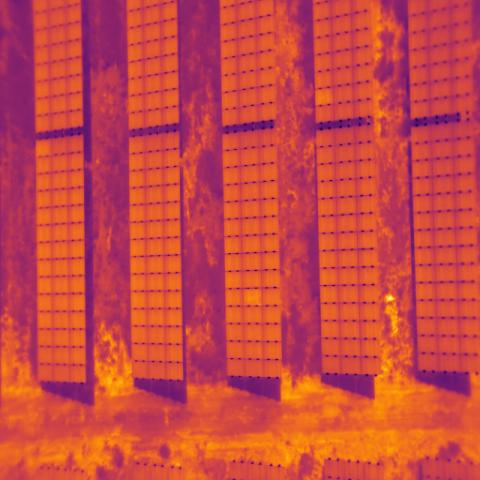fault: (316, 86, 334, 107), (244, 288, 262, 307)
